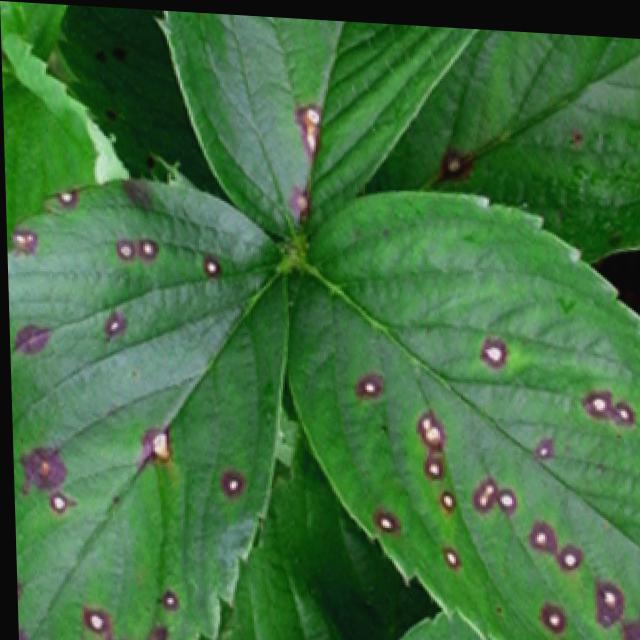Leaf Spot: (284, 183, 640, 640), (6, 176, 287, 640), (155, 8, 481, 245), (355, 22, 640, 254)
